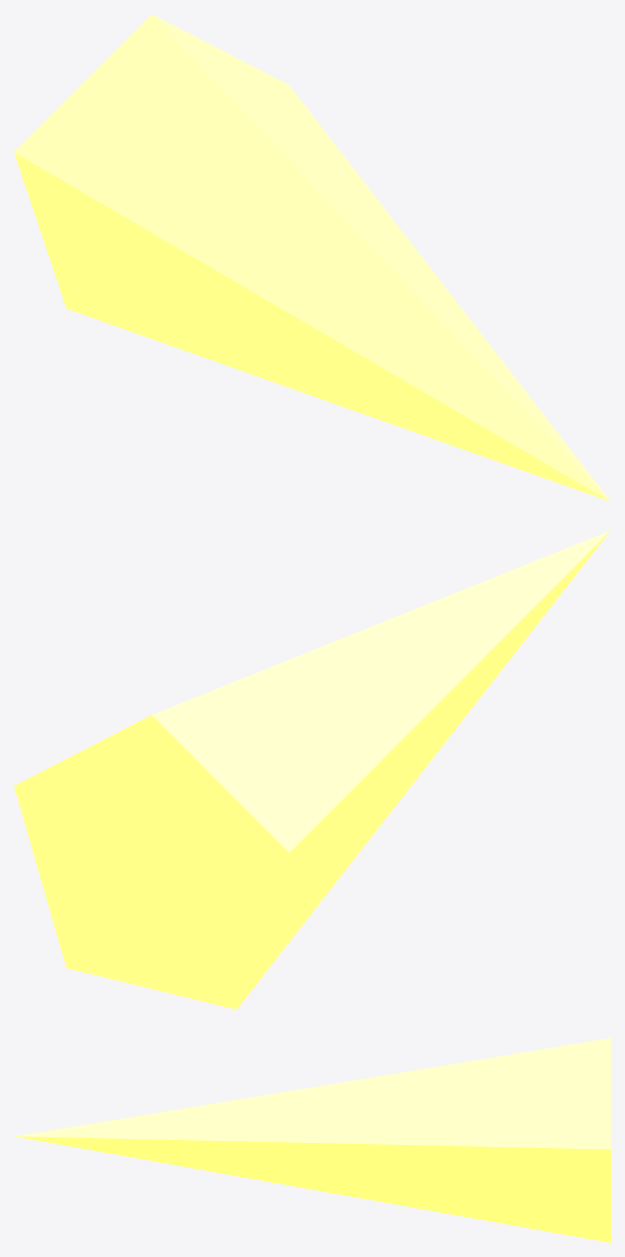
File: vfx_ember.glb
3 views of the same model, one above another, from view 1: azimuth 30°, elevation 25°; view 2: azimuth 150°, elevation 25°; view 3: azimuth 270°, elevation 25° (orthographic). The views are drawn at different scales.
Parts seen in each view (by area): view 1: EmberShard; view 2: EmberShard; view 3: EmberShard.
Part boxes in pixels (x1=…): EmberShard: x1=14, y1=14, x2=610, y2=501; EmberShard: x1=14, y1=530, x2=610, y2=1009; EmberShard: x1=14, y1=1038, x2=610, y2=1242.
Bounding box in the file's own units: 0.1902 × 0.1809 × 0.55.
